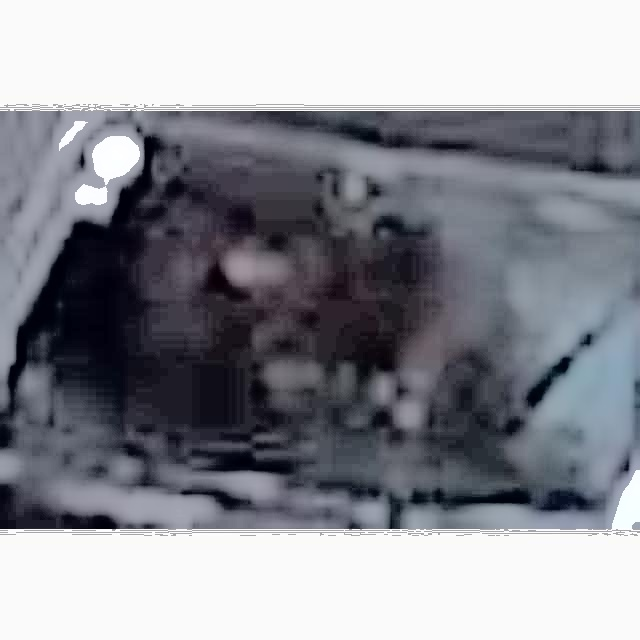pakai: (450, 222, 624, 459)
tidak-pakai: (134, 214, 403, 435)
